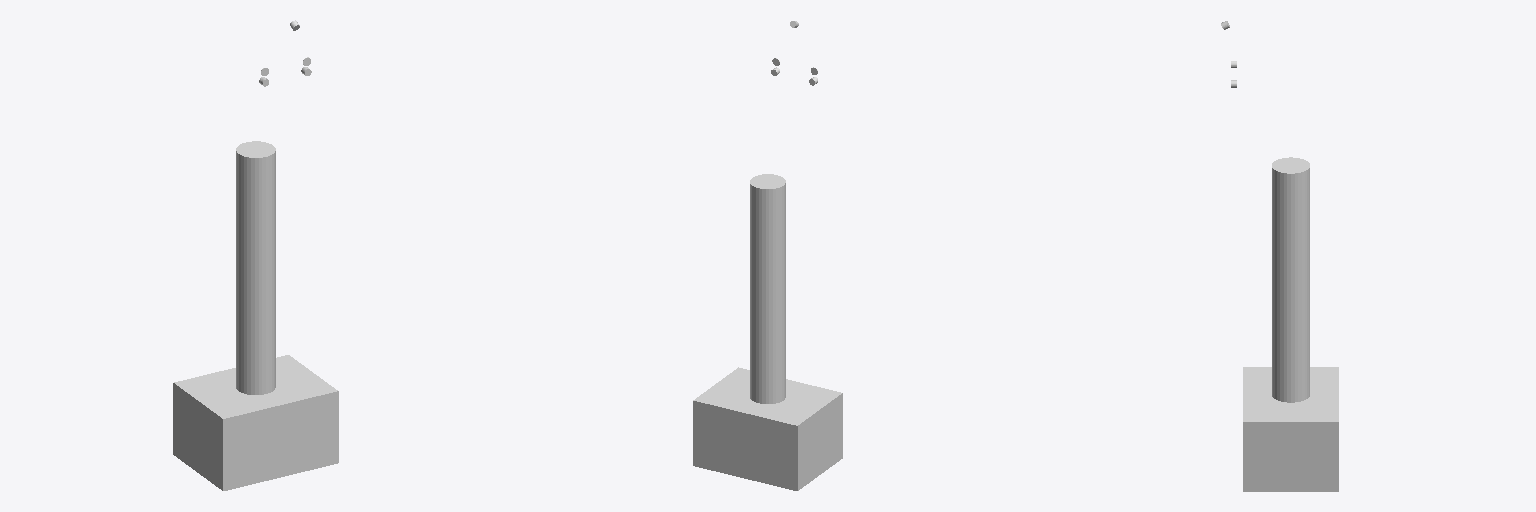
robot.urdf — apollo_robot:
<?xml version="1.0" ?>
<!-- =================================================================================== -->
<!-- |    This document was autogenerated by xacro from models/ApolloRobot.urdf.xacro  | -->
<!-- |    EDITING THIS FILE BY HAND IS NOT RECOMMENDED                                 | -->
<!-- =================================================================================== -->
<robot name="apollo_robot">
  <!-- offsets from Kuka joint convention to SL  -->
  <!-- offsets from Kuka joint convention to SL  -->
  <!-- offsets from Kuka joint convention to SL  -->
  <!-- offsets from Kuka joint convention to SL  -->
  <!-- Manually measured position -->
  <!--xacro:property name="XTIONFromNeckXYZ" value="-0.019 -0.08762 -0.2067" /-->
  <!--xacro:property name="XTIONFromNeckRPY" value="1.134 0.0 0.0" /-->
  <!-- Best transform so far from data collected August14th - without even minimal table pose optimization -->
  <!-- xacro:property name="XTIONFromNeckXYZ" value="-0.008368 -0.102347 -0.207270" /-->
  <!-- xacro:property name="XTIONFromNeckRPY" value="1.108573 -0.001902 -0.039201" /-->
  <material name="DarpaGrey">
    <color rgba="0.9 0.9 0.9 1.0"/>
  </material>
  <material name="DarpaBlue">
    <color rgba="0.0 0.5 0.5 1.0"/>
  </material>
  <link name="world"/>
  <link name="BASE">
    <inertial>
      <origin rpy="0 0 0" xyz="0 0 0"/>
      <mass value="1.0"/>
      <inertia ixx="1.0" ixy="0.0" ixz="0.0" iyy="100.0" iyz="0.0" izz="1.0"/>
    </inertial>
    <visual>
      <material name="DarpaGrey"/>
      <origin rpy="0 0 3.14159265359" xyz="0 0 -1.400"/>
      <geometry>
        <mesh filename="meshes/stand.stl"/>
      </geometry>
    </visual>
    <collision>
      <origin rpy="0 0 3.14159265359" xyz="0 0 -1.400"/>
      <geometry>
        <mesh filename="meshes/collision/stand.stl"/>
      </geometry>
    </collision>
  </link>
  <joint name="fixedJoint" type="fixed">
    <parent link="world"/>
    <child link="BASE"/>
    <!--origin xyz="0 0.2 1.305" rpy="0 0 ${PI}"/-->
    <origin rpy="0 0 3.14159265359" xyz="0 0 1.400"/>
  </joint>
  <!-- joint between {parent} and arm_0_link -->
  <joint name="L_BASE" type="fixed">
    <origin rpy="0 0 1.0471975512" xyz="0 0 0"/>
    <parent link="BASE"/>
    <child link="L_COLLARBONE"/>
  </joint>
  <link name="L_COLLARBONE">
    <inertial>
      <origin rpy="0 0 0" xyz="0 0.06813 0"/>
      <mass value="1.0"/>
      <inertia ixx="0.01" ixy="0" ixz="0" iyy="0.01" iyz="0" izz="0.01"/>
    </inertial>
    <visual>
      <material name="DarpaGrey"/>
      <origin rpy="0 0 0" xyz="0 0.06813 0"/>
      <geometry>
        <mesh filename="meshes/lbr0.stl"/>
      </geometry>
    </visual>
    <collision>
      <origin rpy="0 0 0" xyz="0 0.06813 0"/>
      <geometry>
        <mesh filename="meshes/collision/lbr0_smpl.stl"/>
      </geometry>
    </collision>
  </link>
  <!-- joint between arm_0_link and arm_1_link -->
  <joint name="L_SFE" type="revolute">
    <origin rpy="-1.57079632679 -0.0 0" xyz="0 0.16813 0"/>
    <!--origin xyz="0 0.16 0" rpy="-${PI/2.0} ${reflect*-SFE_offset} 0"/-->
    <parent link="L_COLLARBONE"/>
    <child link="L_SHOULDER"/>
    <axis xyz="0 0 -1"/>
    <dynamics damping="0"/>
    <limit effort="200" lower="-2.96" upper="2.96" velocity="1.9634"/>
  </joint>
  <link name="L_SHOULDER">
    <inertial>
      <origin rpy="0 0 0" xyz="0 0 0.018"/>
      <mass value="5.9907"/>
      <inertia ixx="0.01" ixy="0" ixz="0" iyy="0.01" iyz="0" izz="0.01"/>
    </inertial>
    <visual>
      <material name="DarpaGrey"/>
      <origin rpy="0 0 1.57079632679" xyz="0 0 0.018"/>
      <geometry>
        <mesh filename="meshes/lbr1.stl"/>
      </geometry>
    </visual>
    <collision>
      <origin rpy="0 0 1.57079632679" xyz="0 0 0.018"/>
      <geometry>
        <mesh filename="meshes/collision/lbr1_smpl.stl"/>
      </geometry>
    </collision>
  </link>
  <!-- joint between arm_1_link and arm_2_link -->
  <joint name="L_SAA" type="revolute">
    <!--origin xyz="0 0 0.2" rpy="${PI/2.0} ${PI/2.0 - reflect*SAA_offset} ${PI/2.0}"/-->
    <origin rpy="1.57079632679 3.14149632679 1.57079632679" xyz="0 0 0.2105"/>
    <parent link="L_SHOULDER"/>
    <child link="L_UPPER_ARM_IN_SHOULDER"/>
    <axis xyz="0 0 -1"/>
    <dynamics damping="0"/>
    <limit effort="200" lower="-3.1" upper="-0.1" velocity="1.9634"/>
  </joint>
  <link name="L_UPPER_ARM_IN_SHOULDER">
    <inertial>
      <origin rpy="0 0 0" xyz="0 0 0"/>
      <mass value="5.734939"/>
      <inertia ixx="0.03" ixy="0" ixz="0" iyy="0.03" iyz="0" izz="0.03"/>
    </inertial>
    <visual>
      <material name="DarpaGrey"/>
      <origin rpy="0 0 1.57079632679" xyz="0 0 0"/>
      <geometry>
        <mesh filename="meshes/lbr2.stl"/>
      </geometry>
    </visual>
    <collision>
      <origin rpy="0 0 1.57079632679" xyz="0 0 0"/>
      <geometry>
        <mesh filename="meshes/collision/lbr2_smpl.stl"/>
      </geometry>
    </collision>
  </link>
  <!-- joint between arm_2_link and arm_3_link -->
  <joint name="L_HR" type="revolute">
    <origin rpy="-1.57079632679  -0.523596326795 1.57079632679" xyz="-0.2 0 0"/>
    <parent link="L_UPPER_ARM_IN_SHOULDER"/>
    <child link="L_UPPER_ARM"/>
    <axis xyz="0 0 -1"/>
    <dynamics damping="0"/>
    <limit effort="100" lower="-1.9" upper="4.0" velocity="1.9634"/>
  </joint>
  <link name="L_UPPER_ARM">
    <inertial>
      <origin rpy="0 0 0" xyz="0 0 0.008"/>
      <mass value="4.214668"/>
      <inertia ixx="0.03" ixy="0" ixz="0" iyy="0.03" iyz="0" izz="0.03"/>
    </inertial>
    <visual>
      <material name="DarpaGrey"/>
      <origin rpy="0 0 1.57079632679" xyz="0 0 0.008"/>
      <geometry>
        <mesh filename="meshes/lbr3.stl"/>
      </geometry>
    </visual>
    <collision>
      <origin rpy="0 0 1.57079632679" xyz="0 0 0.008"/>
      <geometry>
        <mesh filename="meshes/collision/lbr3_smpl.stl"/>
      </geometry>
    </collision>
  </link>
  <!-- joint between arm_3_link and arm_4_link -->
  <joint name="L_EB" type="revolute">
    <origin rpy="-1.57079632679 -1.57079632679 1.57079632679" xyz="0 0 0.2"/>
    <parent link="L_UPPER_ARM"/>
    <child link="L_FOREARM"/>
    <axis xyz="0 0 -1"/>
    <dynamics damping="0"/>
    <limit effort="100" lower="-2.09" upper="2.09" velocity="1.9634"/>
  </joint>
  <link name="L_FOREARM">
    <inertial>
      <origin rpy="0 0 0" xyz="0 0 0"/>
      <mass value="3.669819"/>
      <inertia ixx="0.03" ixy="0" ixz="0" iyy="0.03" iyz="0" izz="0.03"/>
    </inertial>
    <visual>
      <material name="DarpaGrey"/>
      <origin rpy="0 0 1.57079632679" xyz="0 0 0"/>
      <geometry>
        <mesh filename="meshes/lbr4.stl"/>
      </geometry>
    </visual>
    <collision>
      <origin rpy="0 0 1.57079632679" xyz="0 0 0"/>
      <geometry>
        <mesh filename="meshes/collision/lbr4_smpl.stl"/>
      </geometry>
    </collision>
  </link>
  <!-- joint between arm_4_link and arm_5_link -->
  <joint name="L_WR" type="revolute">
    <origin rpy="1.57079632679 3.14149632679 1.57079632679" xyz="0.2 0 0"/>
    <parent link="L_FOREARM"/>
    <child link="L_UPPER_WRIST_YAW"/>
    <axis xyz="0 0 -1"/>
    <dynamics damping="0"/>
    <limit effort="100" lower="-3.1" upper="1.35" velocity="3.1415926"/>
  </joint>
  <link name="L_UPPER_WRIST_YAW">
    <inertial>
      <origin rpy="0 0 0" xyz="0 0 0.007"/>
      <mass value="2.313272"/>
      <inertia ixx="0.03" ixy="0" ixz="0" iyy="0.03" iyz="0" izz="0.03"/>
    </inertial>
    <visual>
      <material name="DarpaGrey"/>
      <origin rpy="0 0 1.57079632679" xyz="0 0 0.007"/>
      <geometry>
        <mesh filename="meshes/lbr5.stl"/>
      </geometry>
    </visual>
    <collision>
      <origin rpy="0 0 1.57079632679" xyz="0 0 0.007"/>
      <geometry>
        <mesh filename="meshes/collision/lbr5_smpl.stl"/>
      </geometry>
    </collision>
  </link>
  <!-- joint between arm_5_link and arm_6_link -->
  <joint name="L_WFE" type="revolute">
    <origin rpy="1.5708 -0.0 1.57079632679" xyz="0 0 0.19"/>
    <parent link="L_UPPER_WRIST_YAW"/>
    <child link="L_UPPER_WRIST_PITCH"/>
    <axis xyz="0 0 -1"/>
    <dynamics damping="0"/>
    <limit effort="30" lower="-2.09" upper="2.09" velocity="1.9634"/>
  </joint>
  <link name="L_UPPER_WRIST_PITCH">
    <inertial>
      <origin rpy="0 0 0" xyz="0 0 -0.046"/>
      <mass value="2.057856"/>
      <inertia ixx="0.01" ixy="0" ixz="0" iyy="0.01" iyz="0" izz="0.01"/>
    </inertial>
    <visual>
      <material name="DarpaGrey"/>
      <origin rpy="0 0 0" xyz="0 0 -0.046"/>
      <geometry>
        <mesh filename="meshes/lbr6.stl"/>
      </geometry>
    </visual>
    <collision>
      <origin rpy="0 0 0" xyz="0 0 -0.046"/>
      <geometry>
        <mesh filename="meshes/collision/lbr6_smpl.stl"/>
      </geometry>
    </collision>
  </link>
  <!-- joint between arm_6_link and arm_7_link -->
  <joint name="L_WAA" type="revolute">
    <origin rpy="-1.57079632679 -1.57079632679 0" xyz="0 0.048 0"/>
    <parent link="L_UPPER_WRIST_PITCH"/>
    <child link="L_LOWER_WRIST"/>
    <axis xyz="0 0 -1"/>
    <dynamics damping="0"/>
    <limit effort="30" lower="-2.96" upper="2.96" velocity="1.9634"/>
  </joint>
  <link name="L_LOWER_WRIST">
    <inertial>
      <origin rpy="0 0 0" xyz="0 0 0.009"/>
      <mass value="1.120198"/>
      <inertia ixx="0.01" ixy="0" ixz="0" iyy="0.01" iyz="0" izz="0.01"/>
    </inertial>
    <visual>
      <material name="DarpaGrey"/>
      <origin rpy="0 0 0" xyz="0 0 0.009"/>
      <geometry>
        <mesh filename="meshes/lbr7.stl"/>
      </geometry>
    </visual>
    <collision>
      <origin rpy="0 0 0" xyz="0 0 0.009"/>
      <geometry>
        <mesh filename="meshes/collision/lbr7_smpl.stl"/>
      </geometry>
    </collision>
  </link>
  <joint name="L_Arm_PalmBlueComponentJoint" type="fixed">
    <parent link="L_LOWER_WRIST"/>
    <child link="L_ARM_PALM"/>
    <origin rpy="0 0 3.14159265359" xyz="0 0 0.03"/>
  </joint>
  <link name="L_ARM_PALM">
    <inertial>
      <origin xyz="0 0 0.006"/>
      <mass value="0.00000001"/>
      <inertia ixx="0.00000001" ixy="0.00000001" ixz="-0.00000001" iyy="0.00000001" iyz="-0.00000001" izz="0.00000001"/>
    </inertial>
    <visual>
      <material name="DarpaGrey"/>
      <material name="DarpaBlue"/>
      <origin rpy="1.57079632679 0 0" xyz="0 0 0.006"/>
      <geometry>
        <mesh filename="meshes/wamLowerWristFTPalmLink7.stl"/>
      </geometry>
    </visual>
    <collision>
      <origin rpy="1.57079632679 0 0" xyz="0 0 0.006"/>
      <geometry>
        <mesh filename="meshes/collision/wamLowerWristFTPalmLink7_smpl.stl"/>
      </geometry>
    </collision>
  </link>
  <link name="L_PALM"/>
  <link name="L_KUKA_TOOL"/>
  <link name="L_FORCE_TORQUE_SENSOR"/>
  <joint name="L_Arm_ForceTorqueJoint" type="fixed">
    <parent link="L_ARM_PALM"/>
    <child link="L_FORCE_TORQUE_SENSOR"/>
    <origin rpy="0 0 1.57079632679" xyz="0 0 0.051"/>
    <!-- 0.0131834 = .0059834 from wrist to f-t + .0072 from ft to sensor origin-->
  </joint>
  <joint name="L_Arm_PalmJoint" type="fixed">
    <parent link="L_ARM_PALM"/>
    <child link="L_PALM"/>
    <origin rpy="0 0 3.14159265359" xyz="0 0 0.108"/>
  </joint>
  <joint name="L_Arm_ToolJoint" type="fixed">
    <parent link="L_ARM_PALM"/>
    <child link="L_KUKA_TOOL"/>
    <origin rpy="0 0 1.57079632679" xyz="0 0 0"/>
  </joint>
  <!-- joint between {parent} and motor box-->
  <joint name="B_STAND_MOTORS" type="fixed">
    <!--origin xyz="0 0.15 -0.25" rpy="0 0 0"/-->
    <origin rpy="0 0 0" xyz="0 0.22225 -0.25"/>
    <parent link="BASE"/>
    <child link="B_MOTORS"/>
  </joint>
  <!-- Links for head motors-->
  <link name="B_MOTORS">
    <visual>
      <material name="DarpaGrey"/>
      <origin rpy="0 0 0" xyz="0.0 0.0 -0.06"/>
      <geometry>
        <box size="0.2 0.15 0.12 "/>
      </geometry>
    </visual>
    <collision>
      <origin rpy="0 0 0" xyz="0.0 0.0 -0.06"/>
      <geometry>
        <box size="0.2 0.15 0.12 "/>
      </geometry>
    </collision>
  </link>
  <!-- joint between motor box and neck joints-->
  <joint name="B_MOTORS_neck" type="fixed">
    <origin rpy="0 0 0" xyz="0 0 0"/>
    <parent link="B_MOTORS"/>
    <child link="B_CERVICALS"/>
  </joint>
  <!-- Links for cervicals-->
  <link name="B_CERVICALS">
    <visual>
      <material name="DarpaGrey"/>
      <origin rpy="0 0 0" xyz="0 0 0.19685"/>
      <geometry>
        <cylinder length="0.3937" radius="0.03"/>
      </geometry>
    </visual>
    <collision>
      <origin rpy="0 0 0" xyz="0 0 0.19685"/>
      <geometry>
        <cylinder length="0.3937" radius="0.03"/>
      </geometry>
    </collision>
  </link>
  <!-- joint between {parent} and head cervical 1-->
  <joint name="B_NECK" type="fixed">
    <origin rpy="-1.57079632679 0 1.57079632679" xyz="0.0 0.22225 0.182"/>
    <parent link="BASE"/>
    <child link="B_NECK"/>
  </joint>
  <link name="B_NECK"/>
  <joint name="B_HN" type="revolute">
    <parent link="B_NECK"/>
    <child link="B_CERVICAL1"/>
    <origin rpy="0 0 0" xyz="0 0 0"/>
    <axis xyz="0 0 1"/>
    <dynamics damping="0"/>
    <limit effort="200" lower="-0.522812" upper="0.525297" velocity="1.9634"/>
  </joint>
  <link name="B_CERVICAL1"/>
  <!-- joint between head cervical 1 and head cervical 2-->
  <joint name="B_HT" type="revolute">
    <parent link="B_CERVICAL1"/>
    <child link="B_CERVICAL2"/>
    <origin rpy="0 1.57079632679 0" xyz="0 0 0"/>
    <axis xyz="0 0 1"/>
    <dynamics damping="0"/>
    <limit effort="200" lower="-0.283485" upper="0.342839" velocity="1.9634"/>
  </joint>
  <link name="B_CERVICAL2"/>
  <!-- joint between head cervical 1 and head cervical 2-->
  <joint name="B_HR" type="revolute">
    <parent link="B_CERVICAL2"/>
    <child link="B_HEAD"/>
    <origin rpy="-1.57079632679 0 0" xyz="0 0 0"/>
    <axis xyz="0 0 1"/>
    <dynamics damping="0"/>
    <limit effort="200" lower="-0.98" upper="0.98" velocity="1.9634"/>
  </joint>
  <link name="B_HEAD">
    <inertial>
      <origin rpy="0 0 0" xyz="0 0 0"/>
      <mass value="1.0"/>
      <inertia ixx="0.01" ixy="0" ixz="0" iyy="0.01" iyz="0" izz="0.01"/>
    </inertial>
    <visual>
      <material name="DarpaGrey"/>
      <origin rpy="-1.57079632679 0 0" xyz="-0.035 -0.065 -0.08"/>
      <geometry>
        <mesh filename="meshes/humanoidHead.stl"/>
      </geometry>
    </visual>
    <collision>
      <origin rpy="-1.57079632679 0 0" xyz="-0.035 -0.065 -0.08"/>
      <geometry>
        <mesh filename="meshes/collision/humanoidHead_smpl.stl"/>
      </geometry>
    </collision>
  </link>
  <!-- joint between head and right eye-->
  <joint name="R_EP" type="revolute">
    <parent link="B_HEAD"/>
    <child link="R_PAN_UNIT"/>
    <origin rpy="0 0 0" xyz="0.0366 -0.0674 -0.1356"/>
    <axis xyz="0 0 1"/>
    <dynamics damping="0"/>
    <limit effort="200" lower="-0.547836" upper="0.677454" velocity="1.9634"/>
  </joint>
  <link name="R_PAN_UNIT"/>
  <!-- joint between head and right eye-->
  <joint name="R_ET" type="revolute">
    <parent link="R_PAN_UNIT"/>
    <child link="R_EYE"/>
    <origin rpy="0 -1.57079632679 0" xyz="0 0 0"/>
    <axis xyz="0 0 1"/>
    <dynamics damping="0"/>
    <limit effort="200" lower="-0.584609" upper="0.667224" velocity="1.9634"/>
  </joint>
  <link name="R_EYE">
    <inertial>
      <origin rpy="0 0 0" xyz="0 0 0"/>
      <mass value="1.0"/>
      <inertia ixx="0.01" ixy="0" ixz="0" iyy="0.01" iyz="0" izz="0.01"/>
    </inertial>
    <visual>
      <material name="DarpaGrey"/>
      <origin rpy="0 1.57079632679 1.57079632679" xyz="0.0545 0 0.072"/>
      <geometry>
        <mesh filename="meshes/humanoidHeadRightEye.stl"/>
      </geometry>
    </visual>
    <!--
      <collision>
  <origin xyz="0.0545 0 0.072" rpy="0 ${PI/2.0} ${PI/2.0}"/>
  <geometry>
    <mesh filename="meshes/collision/humanoidHeadRightEye.stl" />
  </geometry>
      </collision>
      -->
  </link>
  <!-- joint between right eye and upper camera-->
  <joint name="R_E_UPPER" type="fixed">
    <parent link="R_EYE"/>
    <child link="R_EYE_UPPER"/>
    <origin rpy="0 0 0" xyz="0 -0.023 0"/>
  </joint>
  <!-- Cameras in right eye-->
  <link name="R_EYE_UPPER">
    <inertial>
      <origin rpy="0 0 0" xyz="0 0 0"/>
      <mass value="1.0"/>
      <inertia ixx="0.01" ixy="0" ixz="0" iyy="0.01" iyz="0" izz="0.01"/>
    </inertial>
    <visual>
      <material name="DarpaGrey"/>
      <origin rpy="0 1.57079632679 1.57079632679" xyz="0 0 0"/>
      <geometry>
        <cylinder length="0.001" radius="0.007"/>
      </geometry>
    </visual>
  </link>
  <!-- joint between right eye and lower camera-->
  <joint name="R_E_LOWER" type="fixed">
    <parent link="R_EYE"/>
    <child link="R_EYE_LOWER"/>
    <origin rpy="0 0 0" xyz="0.017 -0.021 0"/>
  </joint>
  <!-- Cameras in right eye-->
  <link name="R_EYE_LOWER">
    <inertial>
      <origin rpy="0 0 0" xyz="0 0 0"/>
      <mass value="1.0"/>
      <inertia ixx="0.01" ixy="0" ixz="0" iyy="0.01" iyz="0" izz="0.01"/>
    </inertial>
    <visual>
      <material name="DarpaGrey"/>
      <origin rpy="0 1.57079632679 1.57079632679" xyz="0 0 0"/>
      <geometry>
        <cylinder length="0.01" radius="0.006"/>
      </geometry>
    </visual>
  </link>
  <!-- joint between head and right eye-->
  <joint name="L_EP" type="revolute">
    <parent link="B_HEAD"/>
    <child link="L_PAN_UNIT"/>
    <origin rpy="0 0 0" xyz="-0.0366 -0.0674 -0.1356"/>
    <axis xyz="0 0 1"/>
    <dynamics damping="0"/>
    <limit effort="200" lower="-0.557414" upper="0.697715" velocity="1.9634"/>
  </joint>
  <link name="L_PAN_UNIT"/>
  <!-- joint between head and right eye-->
  <joint name="L_ET" type="revolute">
    <parent link="L_PAN_UNIT"/>
    <child link="L_EYE"/>
    <origin rpy="0 -1.57079632679 0" xyz="0 0 0"/>
    <axis xyz="0 0 1"/>
    <dynamics damping="0"/>
    <limit effort="200" lower="-0.574821" upper="0.626982" velocity="1.9634"/>
  </joint>
  <link name="L_EYE">
    <inertial>
      <origin rpy="0 0 0" xyz="0 0 0"/>
      <mass value="1.0"/>
      <inertia ixx="0.01" ixy="0" ixz="0" iyy="0.01" iyz="0" izz="0.01"/>
    </inertial>
    <visual>
      <material name="DarpaGrey"/>
      <origin rpy="0 1.57079632679 1.57079632679" xyz="0.0545 0 0.072"/>
      <geometry>
        <mesh filename="meshes/humanoidHeadRightEye.stl"/>
      </geometry>
    </visual>
    <!--
      <collision>
  <origin xyz="0.0545 0 0.072" rpy="0 ${PI/2.0} ${PI/2.0}"/>
  <geometry>
    <mesh filename="meshes/collision/humanoidHeadRightEye.stl" />
  </geometry>
      </collision>
      -->
  </link>
  <!-- joint between left eye and upper camera-->
  <joint name="L_E_UPPER" type="fixed">
    <parent link="L_EYE"/>
    <child link="L_EYE_UPPER"/>
    <origin rpy="0 0 0" xyz="0 -0.023 0"/>
  </joint>
  <!-- Cameras in left eye-->
  <link name="L_EYE_UPPER">
    <inertial>
      <origin rpy="0 0 0" xyz="0 0 0"/>
      <mass value="1.0"/>
      <inertia ixx="0.01" ixy="0" ixz="0" iyy="0.01" iyz="0" izz="0.01"/>
    </inertial>
    <visual>
      <material name="DarpaGrey"/>
      <origin rpy="0 1.57079632679 1.57079632679" xyz="0 0 0"/>
      <geometry>
        <cylinder length="0.001" radius="0.007"/>
      </geometry>
    </visual>
  </link>
  <!-- joint between left eye and lower camera-->
  <joint name="L_E_LOWER" type="fixed">
    <parent link="L_EYE"/>
    <child link="L_EYE_LOWER"/>
    <origin rpy="0 0 0" xyz="0.017 -0.021 0"/>
  </joint>
  <!-- Cameras in left eye-->
  <link name="L_EYE_LOWER">
    <inertial>
      <origin rpy="0 0 0" xyz="0 0 0"/>
      <mass value="1.0"/>
      <inertia ixx="0.01" ixy="0" ixz="0" iyy="0.01" iyz="0" izz="0.01"/>
    </inertial>
    <visual>
      <material name="DarpaGrey"/>
      <origin rpy="0 1.57079632679 1.57079632679" xyz="0 0 0"/>
      <geometry>
        <cylinder length="0.01" radius="0.006"/>
      </geometry>
    </visual>
  </link>
  <!-- XTION-->
  <!-- joint between neck and xtion rgb camera-->
  <!--joint name="XTION_LINK" type="fixed" >
      <parent link="B_HEAD" />
      <child link="XTION_RGB" />
      <origin xyz="-0.02 -0.07 -0.205" rpy="1.134 0 0"/>
    </joint-->
  <joint name="XTION_JOINT" type="fixed">
    <parent link="B_HEAD"/>
    <child link="XTION_RGB"/>
    <origin rpy="1.108260 -0.001908 -0.039256" xyz="-0.008534 -0.102006 -0.206765"/>
  </joint>
  <link name="XTION_RGB">
    <inertial>
      <origin rpy="0 0 0" xyz="0 0 0"/>
      <mass value="1.0"/>
      <inertia ixx="0.01" ixy="0" ixz="0" iyy="0.01" iyz="0" izz="0.01"/>
    </inertial>
    <visual>
      <material name="DarpaGrey"/>
      <origin rpy="0 0 0" xyz="0 0 0"/>
      <geometry>
        <cylinder length="0.01" radius="0.006"/>
      </geometry>
    </visual>
  </link>
</robot>

--- Facts derived from the render (not from the file) ---
Views: 3 orthographic renders of the robot side by side, from view 1: azimuth 30°, elevation 25°; view 2: azimuth 150°, elevation 25°; view 3: azimuth 270°, elevation 25°.
Model apollo_robot with 29 links and 28 joints (14 revolute, 14 fixed), rooted at world, posed all joints at 0 but 1 set to mid-range because 0 is outside their limits (L_SAA = -1.6).
Links seen in each view (by area): view 1: B_MOTORS, B_CERVICALS; view 2: B_MOTORS, B_CERVICALS; view 3: B_MOTORS, B_CERVICALS.
Link boxes in pixels (<box>): B_MOTORS: <box>173,355,338,490</box>; B_CERVICALS: <box>236,141,275,394</box>; B_MOTORS: <box>693,367,842,490</box>; B_CERVICALS: <box>750,174,785,403</box>; B_MOTORS: <box>1243,367,1338,491</box>; B_CERVICALS: <box>1272,157,1309,402</box>.
Size in the robot's own frame: 0.2 by 0.1842 by 0.7664 metres.
Meshes: 12 distinct files referenced, 0 mesh visuals loaded (none loaded); not drawn: 13 (reference not matched to a file when rendering).